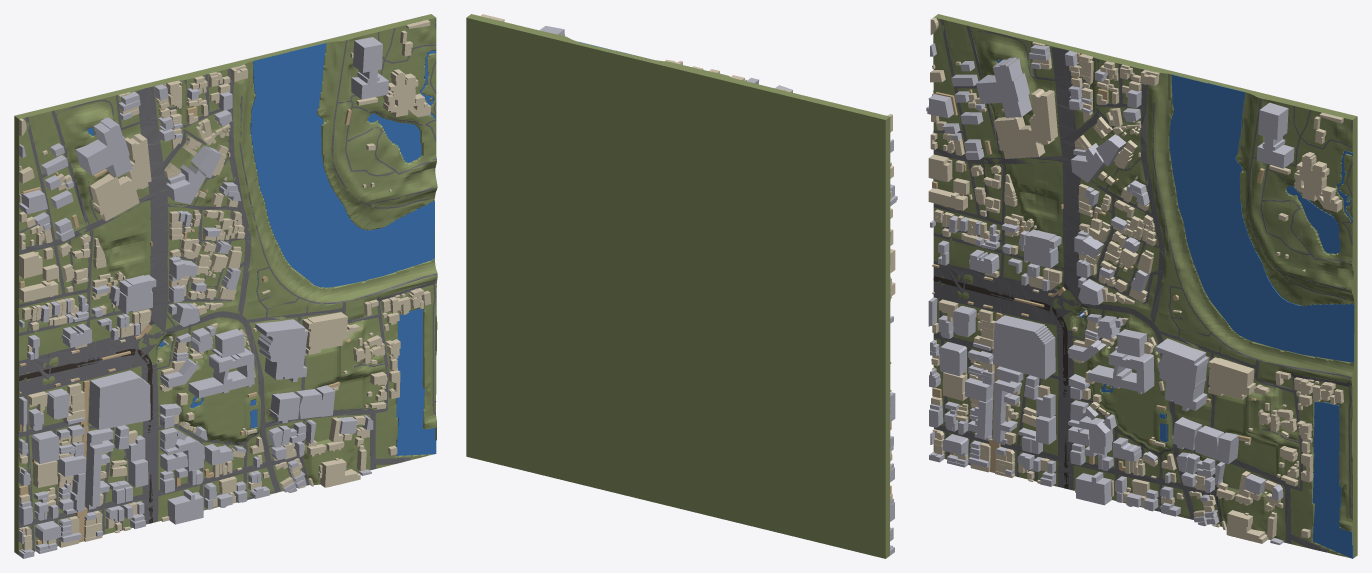
Rendered from ishiyama_west_bank_mm.obj.
3 renders of one model, left to right at view 1: azimuth 30°, elevation 25°; view 2: azimuth 150°, elevation 25°; view 3: azimuth 330°, elevation 25°, orthographic.
Visible parts, largest first — view 1: Terrain, Water_01, Water_03, Bldg_0449, Bldg_0001, Bldg_0450, Bldg_0451, Bldg_0453, Bldg_0452, Bldg_0002, Bldg_0003, Water_04 (+25 smaller); view 2: Terrain; view 3: Terrain, Water_01, Water_03, Bldg_0449, Bldg_0001, Bldg_0450, Bldg_0451, Bldg_0453, Bldg_0452, Bldg_0002, Bldg_0003, Water_04 (+25 smaller).
Part boxes in pixels (left/top/right/bottom): Terrain: left=14, top=14, right=437, bottom=554; Water_01: left=250, top=43, right=434, bottom=287; Water_03: left=396, top=308, right=436, bottom=455; Bldg_0449: left=88, top=370, right=150, bottom=429; Bldg_0001: left=90, top=133, right=151, bottom=220; Bldg_0450: left=255, top=319, right=307, bottom=382; Bldg_0451: left=75, top=117, right=132, bottom=177; Bldg_0453: left=188, top=348, right=254, bottom=398; Bldg_0452: left=351, top=37, right=388, bottom=99; Bldg_0002: left=383, top=69, right=430, bottom=117; Bldg_0003: left=302, top=312, right=349, bottom=354; Water_04: left=367, top=113, right=421, bottom=162; Terrain: left=466, top=14, right=890, bottom=558; Terrain: left=933, top=14, right=1357, bottom=558; Water_01: left=1169, top=74, right=1354, bottom=362; Water_03: left=1312, top=402, right=1353, bottom=558; Bldg_0449: left=993, top=315, right=1055, bottom=379; Bldg_0001: left=994, top=88, right=1057, bottom=158; Bldg_0450: left=1155, top=338, right=1208, bottom=411; Bldg_0451: left=976, top=57, right=1031, bottom=117; Bldg_0453: left=1088, top=350, right=1154, bottom=393; Bldg_0452: left=1256, top=102, right=1294, bottom=168; Bldg_0002: left=1294, top=152, right=1342, bottom=212; Bldg_0003: left=1208, top=357, right=1255, bottom=399; Water_04: left=1286, top=186, right=1340, bottom=253.
Size of the model in its own units: 600000 by 600000 by 45122.
